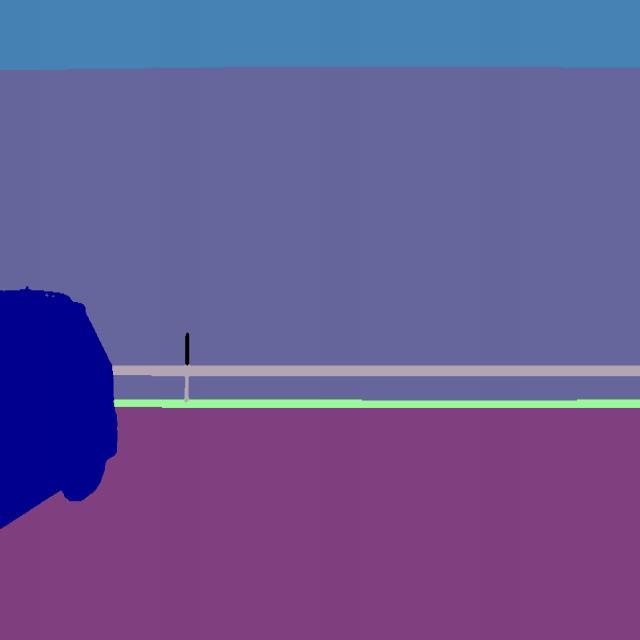unsafe: (0, 276, 120, 540)
